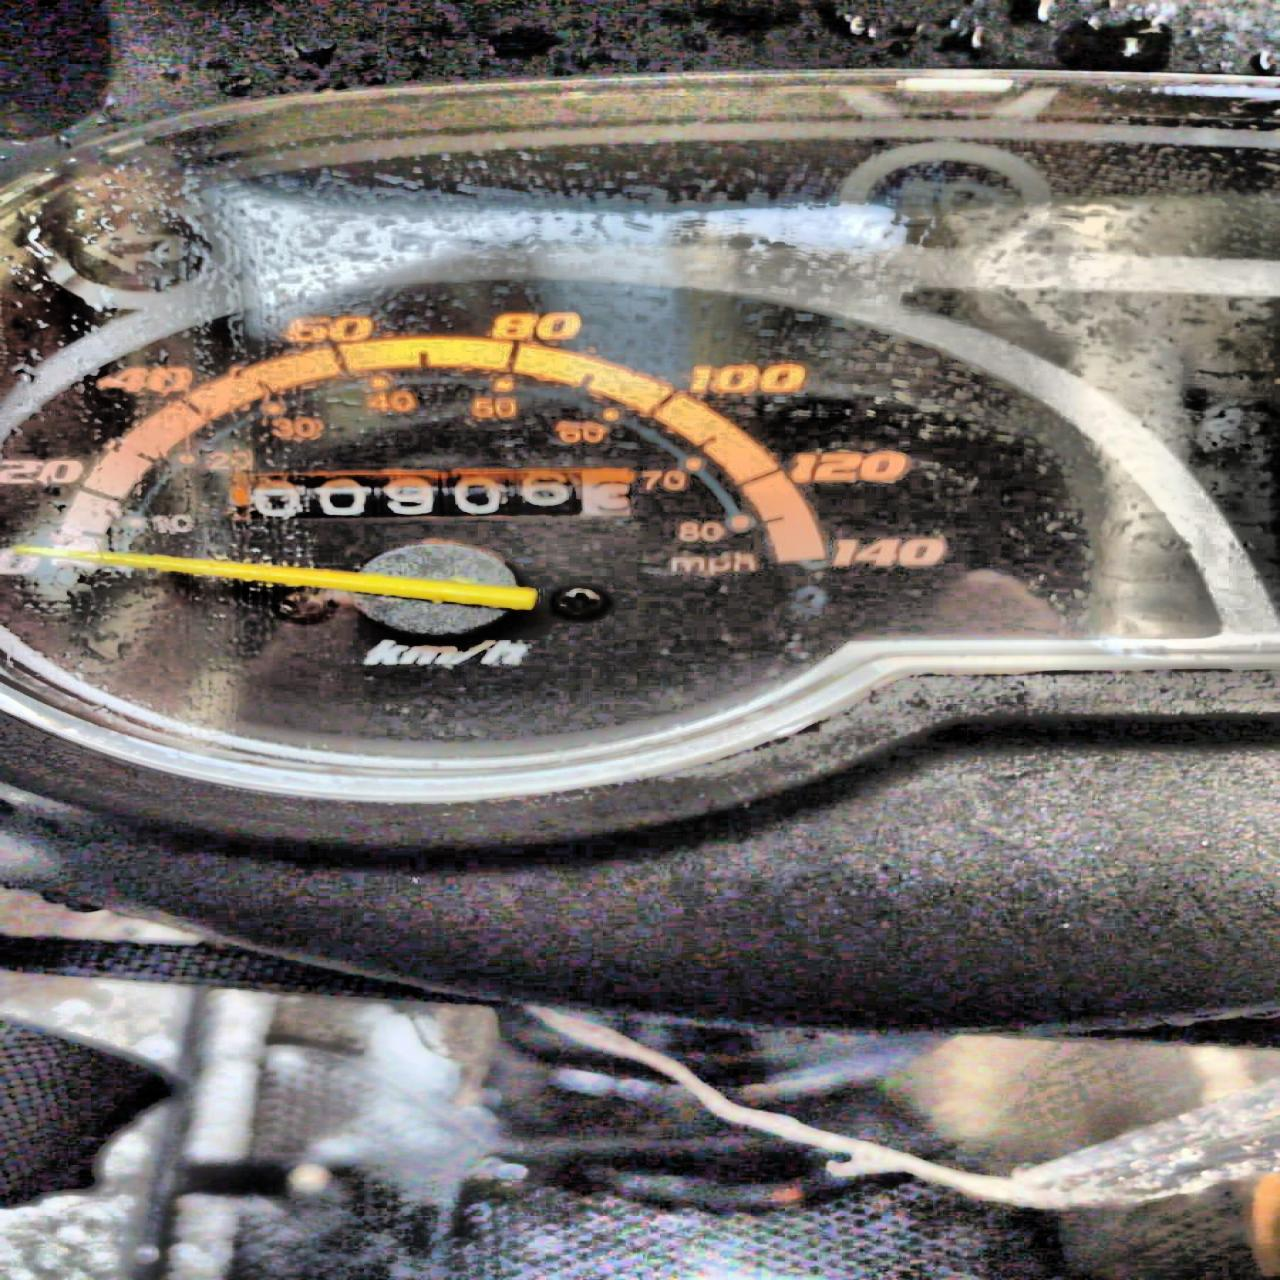0: (450, 476, 501, 515), (250, 479, 300, 517), (318, 478, 366, 516)
3: (588, 479, 633, 511)
6: (520, 470, 568, 506)
9: (384, 477, 434, 515)
odometer: (227, 467, 635, 519)
